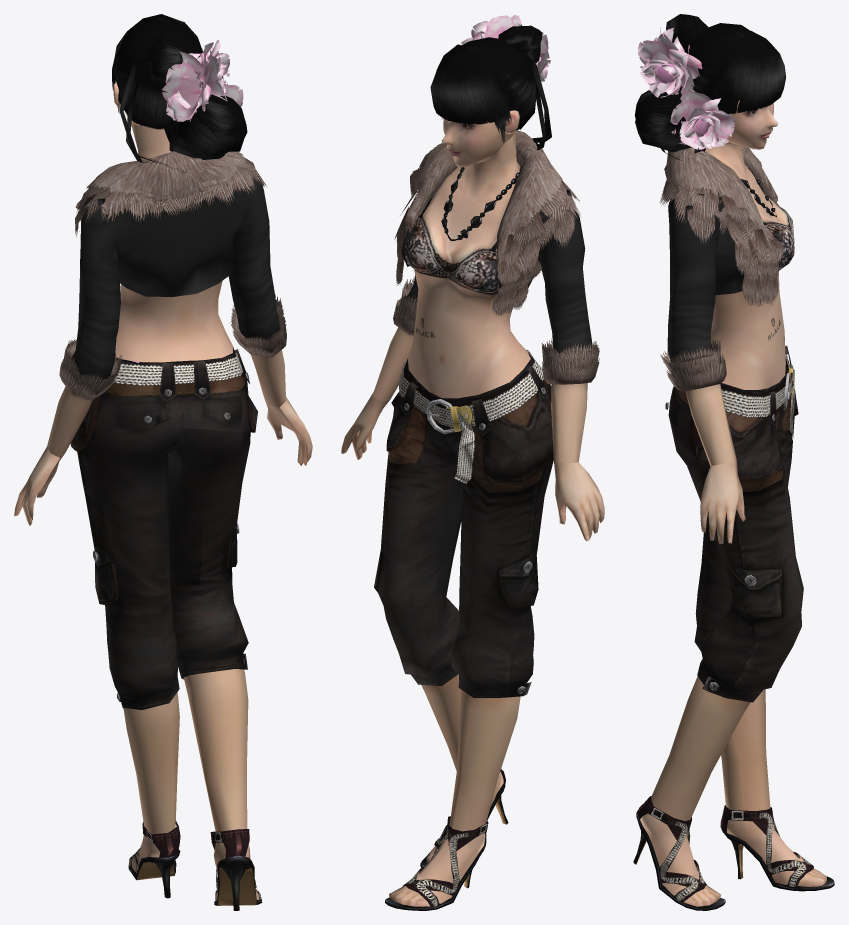
3 renders of one model, left to right at view 1: azimuth 30°, elevation 25°; view 2: azimuth 150°, elevation 25°; view 3: azimuth 270°, elevation 25°, orthographic. The views are drawn at different scales.
Parts seen in each view (by area): view 1: legs, torso, hair, foot, hand01, hand; view 2: legs, torso, hair, foot, hand01, head, hand; view 3: legs, torso, hair, foot, hand, head.
Part boxes in pixels (left/top/right/bottom): legs: left=70, top=347, right=257, bottom=834; torso: left=47, top=123, right=286, bottom=457; hair: left=112, top=14, right=247, bottom=172; foot: left=128, top=821, right=262, bottom=910; hand01: left=14, top=447, right=64, bottom=525; hand: left=263, top=396, right=312, bottom=465; legs: left=374, top=350, right=553, bottom=845; torso: left=372, top=130, right=599, bottom=462; hair: left=430, top=14, right=551, bottom=149; foot: left=385, top=769, right=508, bottom=910; hand01: left=554, top=462, right=604, bottom=541; head: left=441, top=110, right=519, bottom=167; hand: left=341, top=393, right=389, bottom=459; legs: left=651, top=345, right=803, bottom=826; torso: left=660, top=142, right=794, bottom=465; hair: left=634, top=14, right=785, bottom=160; foot: left=633, top=796, right=834, bottom=910; hand: left=700, top=460, right=745, bottom=543; head: left=727, top=100, right=777, bottom=149.
Bounding box in the file's own units: 0.5608 × 1.71 × 0.3677.
6 materials, 6 textured.
